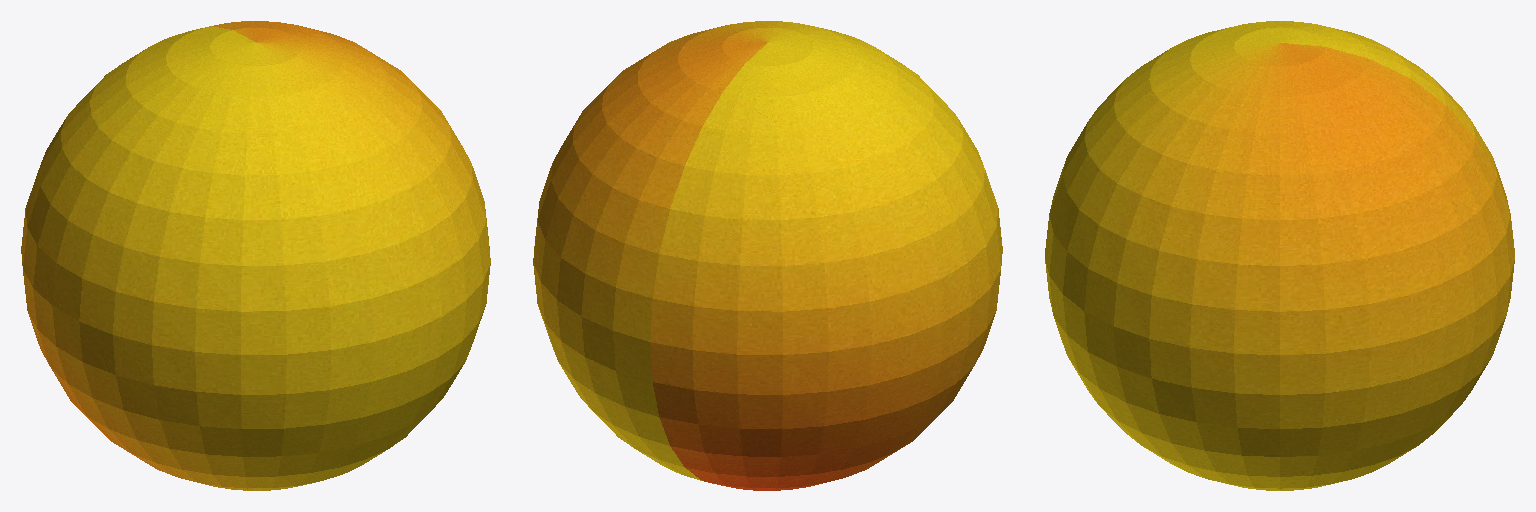
3 views of the same model, side by side, from view 1: azimuth 30°, elevation 25°; view 2: azimuth 150°, elevation 25°; view 3: azimuth 270°, elevation 25° (orthographic).
Parts seen in each view (by area): view 1: Sphere001; view 2: Sphere001; view 3: Sphere001.
Boxes of the visible parts, x1,y1,x2,y2 form: Sphere001: [21, 21, 490, 490]; Sphere001: [533, 21, 1002, 490]; Sphere001: [1045, 21, 1514, 490].
Bounding box in the file's own units: 0.1412 × 0.1412 × 0.1412.
1 materials, 1 textured.